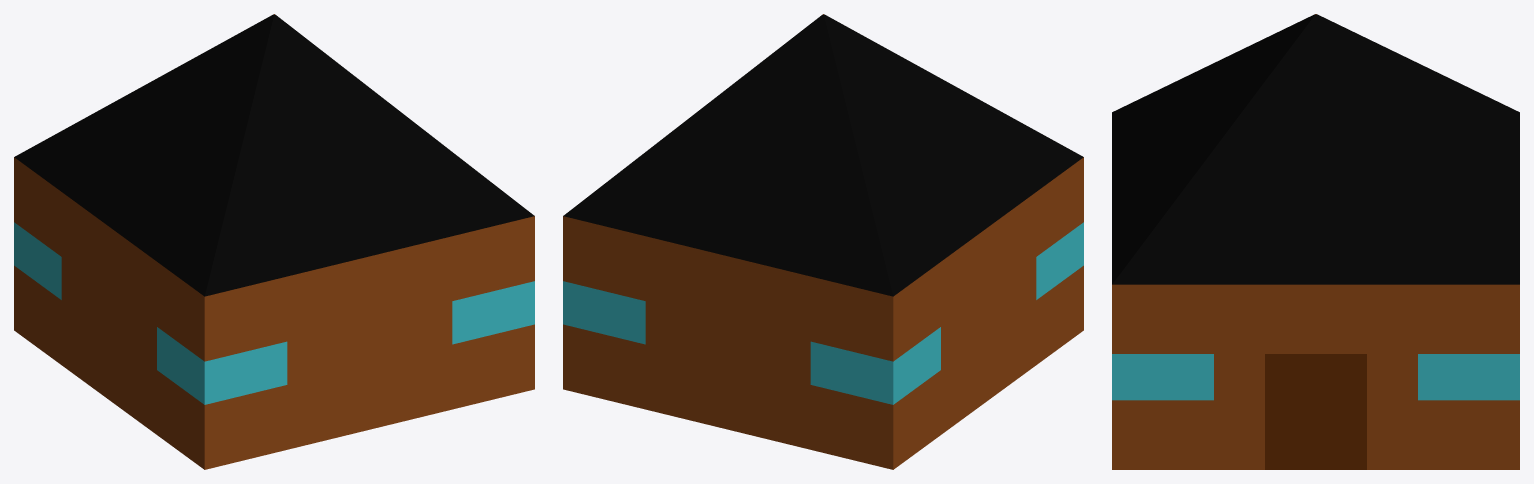
The model's file is basichouse.fbx.
The picture shows the model from 3 angles, left to right: view 1: azimuth 30°, elevation 25°; view 2: azimuth 150°, elevation 25°; view 3: azimuth 270°, elevation 25°; orthographic projection. The views are drawn at different scales.
Visible parts, largest first — view 1: Cube; view 2: Cube; view 3: Cube.
Part boxes in pixels (bbox=[...]): Cube: bbox=[14, 14, 534, 469]; Cube: bbox=[563, 14, 1083, 469]; Cube: bbox=[1112, 14, 1519, 469].
Size of the model in its own units: 200 by 200 by 200.
